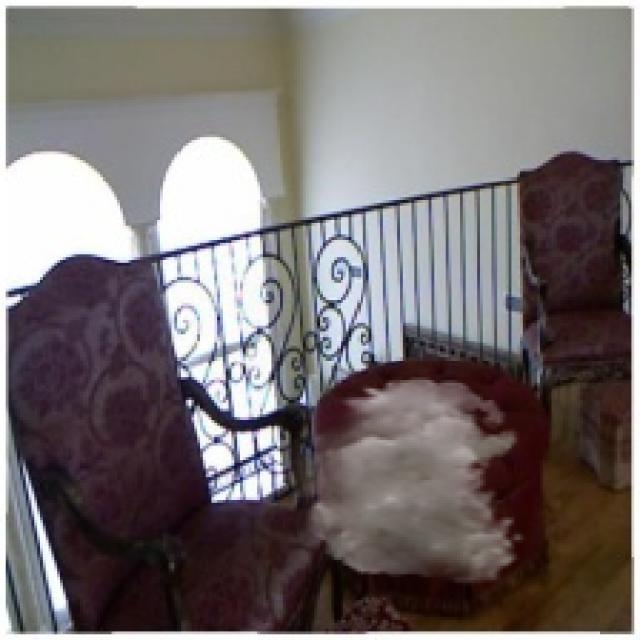Smoke: (277, 377, 526, 586)
